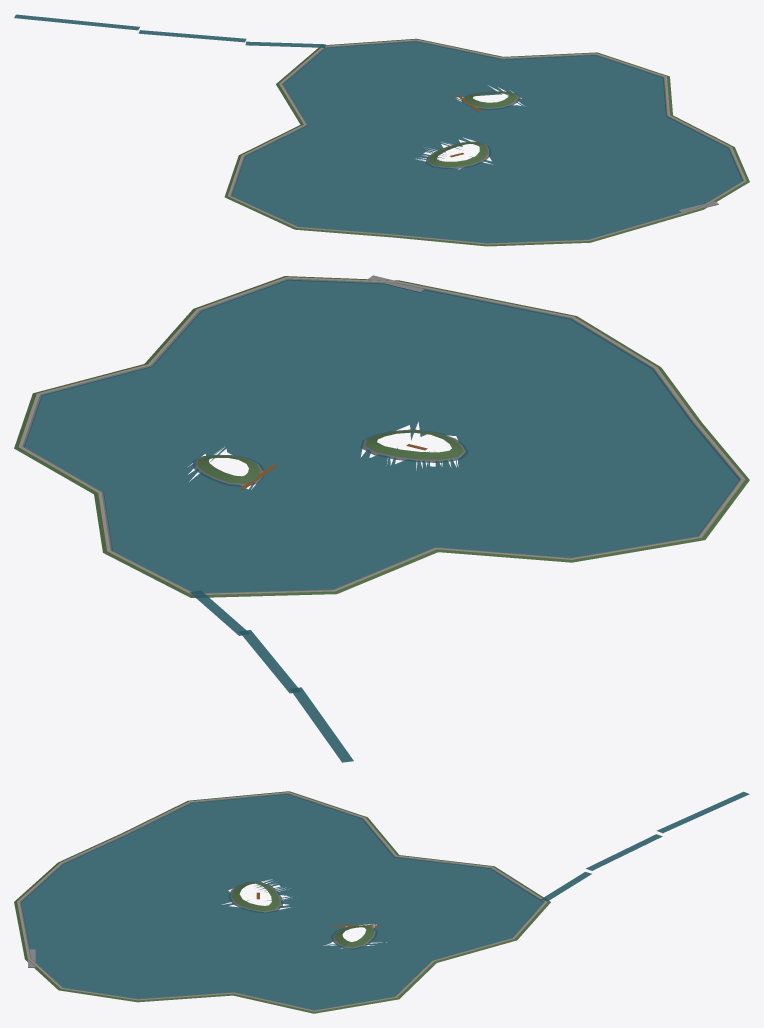
Rendered from water_suoi_tia_tuyen_lam.glb.
The picture shows the model from 3 angles, top to bottom: view 1: azimuth 30°, elevation 25°; view 2: azimuth 150°, elevation 25°; view 3: azimuth 270°, elevation 25°; orthographic projection. The views are drawn at different scales.
Visible parts, largest first — view 1: water_surface_water_suoi_tia_tuyen_lam, shoreline_terrain_transition_verge_water_suoi_tia_tuyen_lam, lakeside_promenade_walkway_water_suoi_tia_tuyen_lam, embankment_stone_coping_water_suoi_tia_tuyen_lam, headwater_terraces_stream_inflow_suoi_tia_headwater, embankment_stone_slope_water_suoi_tia_tuyen_lam, island_pine_mound_slope_island_st_01_rung_cho_co_thu, island_pine_mound_slope_island_st_02_go_suong_mu_bac; view 2: water_surface_water_suoi_tia_tuyen_lam, shoreline_terrain_transition_verge_water_suoi_tia_tuyen_lam, lakeside_promenade_walkway_water_suoi_tia_tuyen_lam, headwater_terraces_stream_inflow_suoi_tia_headwater, embankment_stone_coping_water_suoi_tia_tuyen_lam, island_pine_mound_slope_island_st_01_rung_cho_co_thu, embankment_stone_slope_water_suoi_tia_tuyen_lam, island_pine_mound_slope_island_st_02_go_suong_mu_bac; view 3: water_surface_water_suoi_tia_tuyen_lam, shoreline_terrain_transition_verge_water_suoi_tia_tuyen_lam, lakeside_promenade_walkway_water_suoi_tia_tuyen_lam, embankment_stone_coping_water_suoi_tia_tuyen_lam, headwater_terraces_stream_inflow_suoi_tia_headwater, embankment_stone_slope_water_suoi_tia_tuyen_lam, island_pine_mound_slope_island_st_01_rung_cho_co_thu, island_pine_mound_slope_island_st_02_go_suong_mu_bac.
Boxes of the visible parts, x1,y1,x2,y2 form: water_surface_water_suoi_tia_tuyen_lam: (231, 41, 742, 243); shoreline_terrain_transition_verge_water_suoi_tia_tuyen_lam: (224, 38, 749, 246); lakeside_promenade_walkway_water_suoi_tia_tuyen_lam: (228, 39, 746, 244); embankment_stone_coping_water_suoi_tia_tuyen_lam: (230, 40, 743, 243); headwater_terraces_stream_inflow_suoi_tia_headwater: (14, 14, 325, 47); embankment_stone_slope_water_suoi_tia_tuyen_lam: (231, 41, 742, 195); island_pine_mound_slope_island_st_01_rung_cho_co_thu: (428, 142, 487, 166); island_pine_mound_slope_island_st_02_go_suong_mu_bac: (465, 92, 516, 107); water_surface_water_suoi_tia_tuyen_lam: (24, 279, 739, 592); shoreline_terrain_transition_verge_water_suoi_tia_tuyen_lam: (14, 276, 749, 597); lakeside_promenade_walkway_water_suoi_tia_tuyen_lam: (18, 277, 745, 594); headwater_terraces_stream_inflow_suoi_tia_headwater: (190, 590, 353, 762); embankment_stone_coping_water_suoi_tia_tuyen_lam: (22, 278, 741, 593); island_pine_mound_slope_island_st_01_rung_cho_co_thu: (365, 430, 463, 459); embankment_stone_slope_water_suoi_tia_tuyen_lam: (23, 279, 740, 550); island_pine_mound_slope_island_st_02_go_suong_mu_bac: (197, 455, 260, 483); water_surface_water_suoi_tia_tuyen_lam: (20, 794, 543, 1010); shoreline_terrain_transition_verge_water_suoi_tia_tuyen_lam: (14, 791, 550, 1013); lakeside_promenade_walkway_water_suoi_tia_tuyen_lam: (17, 792, 547, 1011); embankment_stone_coping_water_suoi_tia_tuyen_lam: (19, 793, 544, 1010); headwater_terraces_stream_inflow_suoi_tia_headwater: (540, 791, 749, 901); embankment_stone_slope_water_suoi_tia_tuyen_lam: (20, 793, 543, 995); island_pine_mound_slope_island_st_01_rung_cho_co_thu: (231, 882, 279, 911); island_pine_mound_slope_island_st_02_go_suong_mu_bac: (334, 925, 374, 947).
Bounding box in the file's own units: 967 × 16.45 × 1351.
